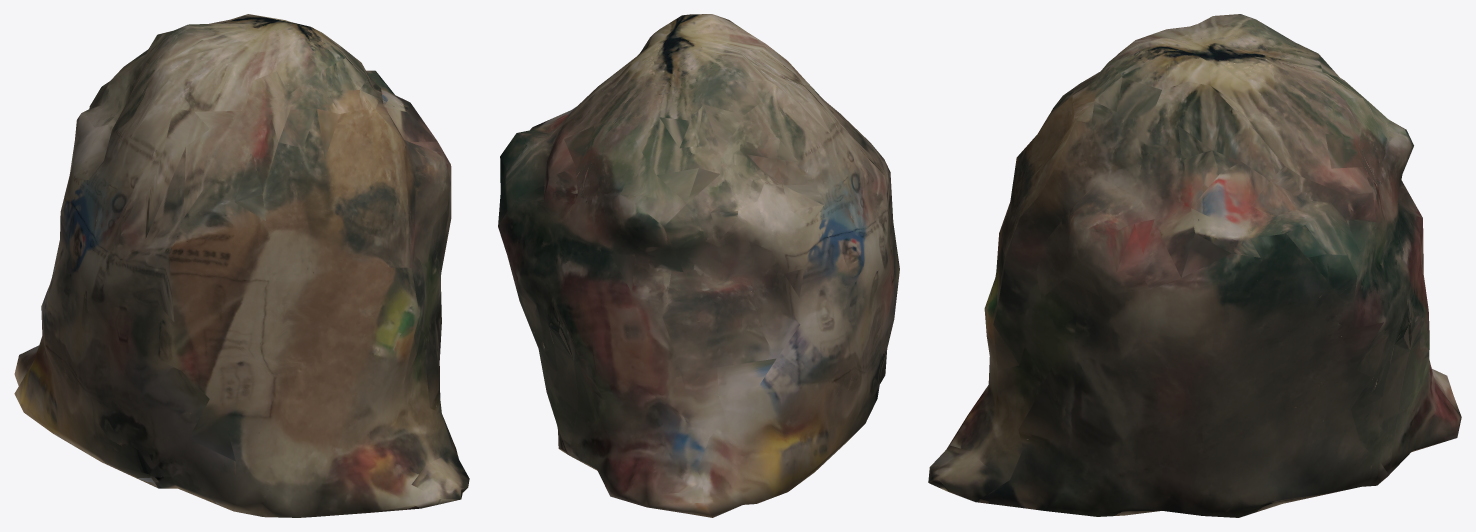
Rendered from trash.fbx.
3 views of the same model, side by side, from view 1: azimuth 30°, elevation 25°; view 2: azimuth 150°, elevation 25°; view 3: azimuth 270°, elevation 25° (orthographic). The views are drawn at different scales.
Visible parts, largest first — view 1: texturedMesh.001; view 2: texturedMesh.001; view 3: texturedMesh.001.
Part boxes in pixels (bbox=[...]): texturedMesh.001: bbox=[14, 14, 469, 517]; texturedMesh.001: bbox=[498, 14, 899, 517]; texturedMesh.001: bbox=[928, 14, 1461, 517].
Size of the model in its own units: 54.76 by 58.1 by 66.89.
